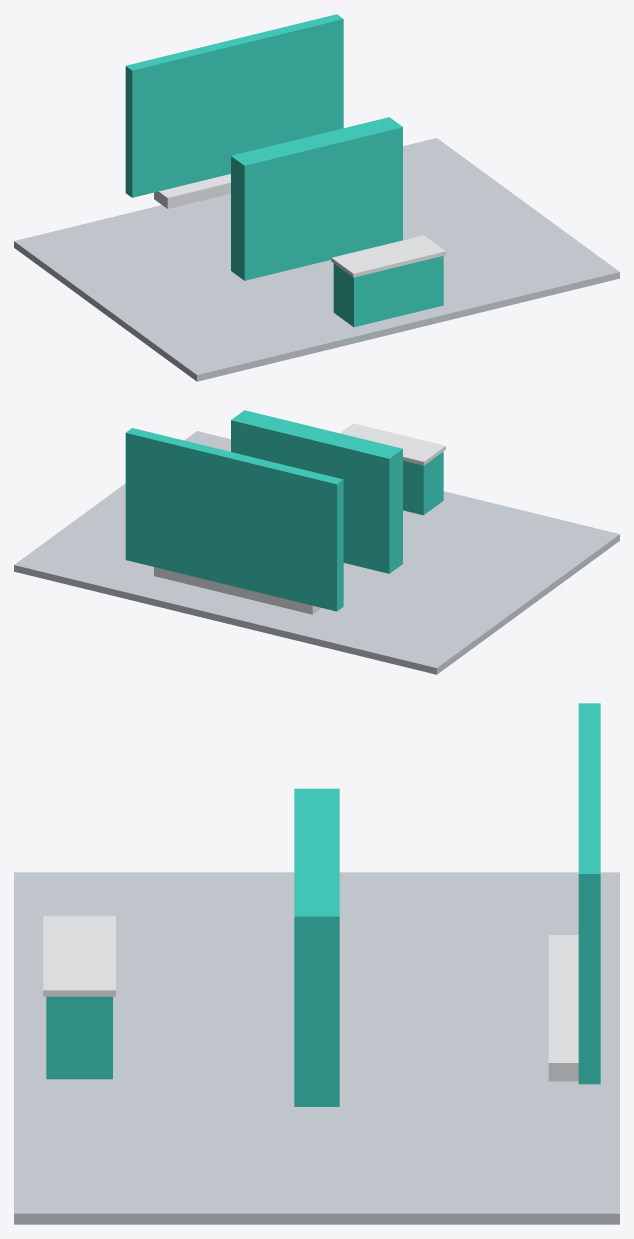
The picture shows the model from 3 angles, top to bottom: view 1: azimuth 30°, elevation 25°; view 2: azimuth 150°, elevation 25°; view 3: azimuth 270°, elevation 25°; orthographic projection. The views are drawn at different scales.
Parts seen in each view (by area): view 1: Exhibition Booth Concept; view 2: Exhibition Booth Concept; view 3: Exhibition Booth Concept.
Part boxes in pixels (x1,y1,x2,y2): Exhibition Booth Concept: (14,14,619,381); Exhibition Booth Concept: (14,410,619,674); Exhibition Booth Concept: (14,703,619,1224).
Bounding box in the file's own units: 8 × 2.9 × 6.
